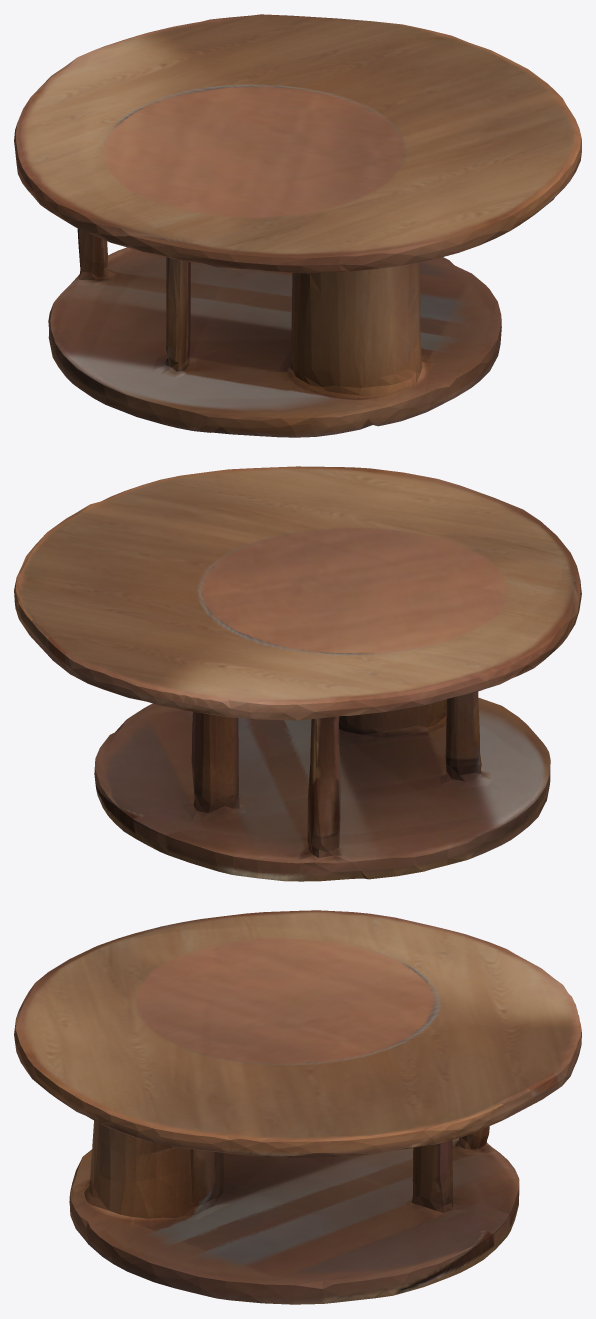
The model's file is walnut-coffee-table.glb.
The picture shows the model from 3 angles, top to bottom: view 1: azimuth 30°, elevation 25°; view 2: azimuth 150°, elevation 25°; view 3: azimuth 270°, elevation 25°; orthographic projection.
Parts seen in each view (by area): view 1: table2; view 2: table2; view 3: table2.
Part boxes in pixels (bbox=[...]): table2: bbox=[14, 14, 581, 437]; table2: bbox=[14, 466, 581, 881]; table2: bbox=[14, 910, 581, 1304].
Size of what is drawn, in the model's own units: 3.81 by 1.49 by 3.89.
1 material, 1 textured.
